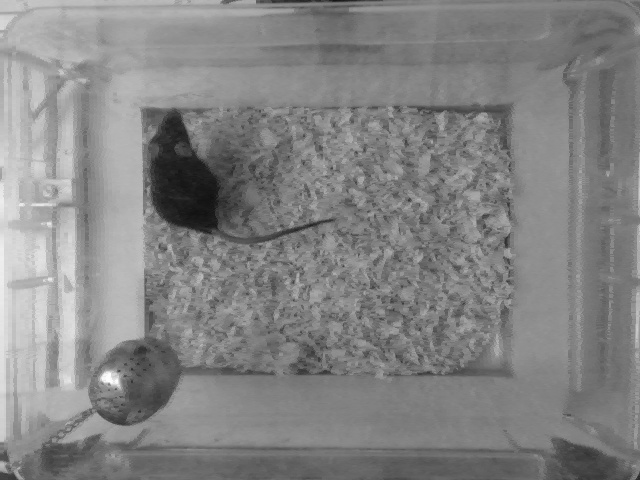mice: (147, 106, 335, 245)
